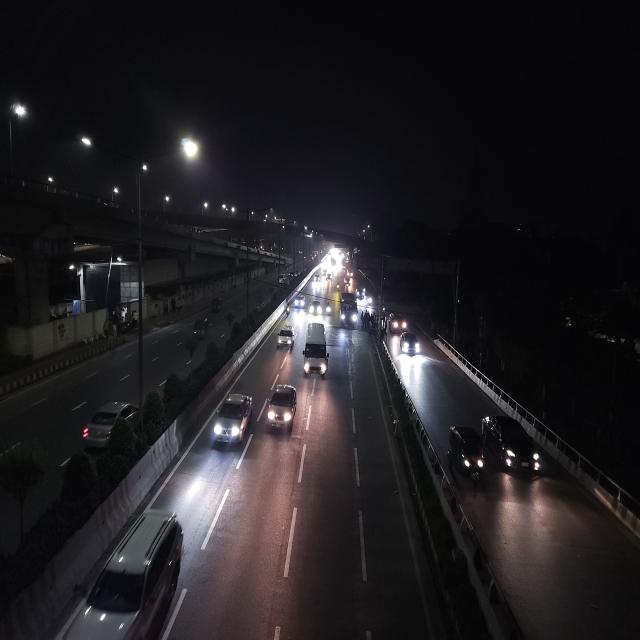bus: (338, 290, 358, 330)
car: (76, 504, 187, 638), (481, 411, 544, 481), (79, 396, 139, 453), (209, 388, 255, 456), (446, 422, 486, 487), (265, 381, 300, 437), (302, 319, 330, 380), (399, 331, 422, 356), (275, 325, 296, 350), (388, 312, 408, 335), (309, 298, 323, 318), (292, 293, 308, 310), (276, 274, 288, 286)
cng: (190, 315, 212, 340), (209, 295, 223, 314)
motorcycle: (282, 305, 292, 322), (326, 300, 332, 318)
pedestrian: (369, 312, 375, 330), (359, 310, 365, 328)
truck: (302, 319, 330, 380)
